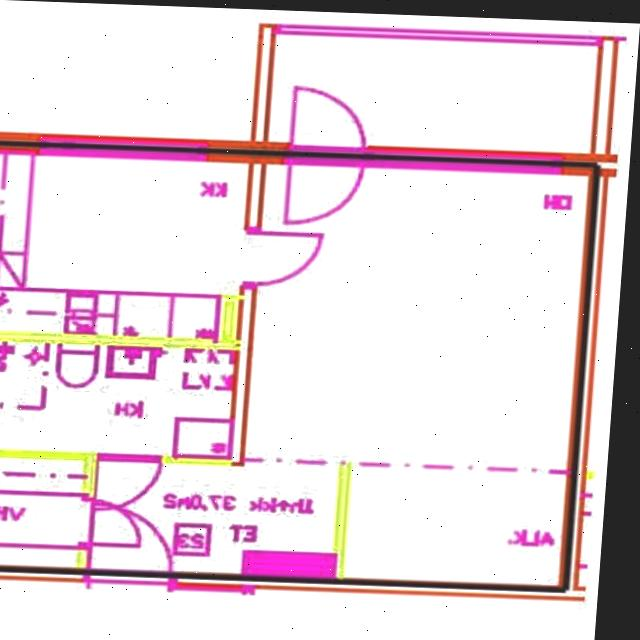room: (0, 155, 249, 339), (92, 462, 338, 577), (0, 342, 234, 457), (0, 458, 82, 567)
